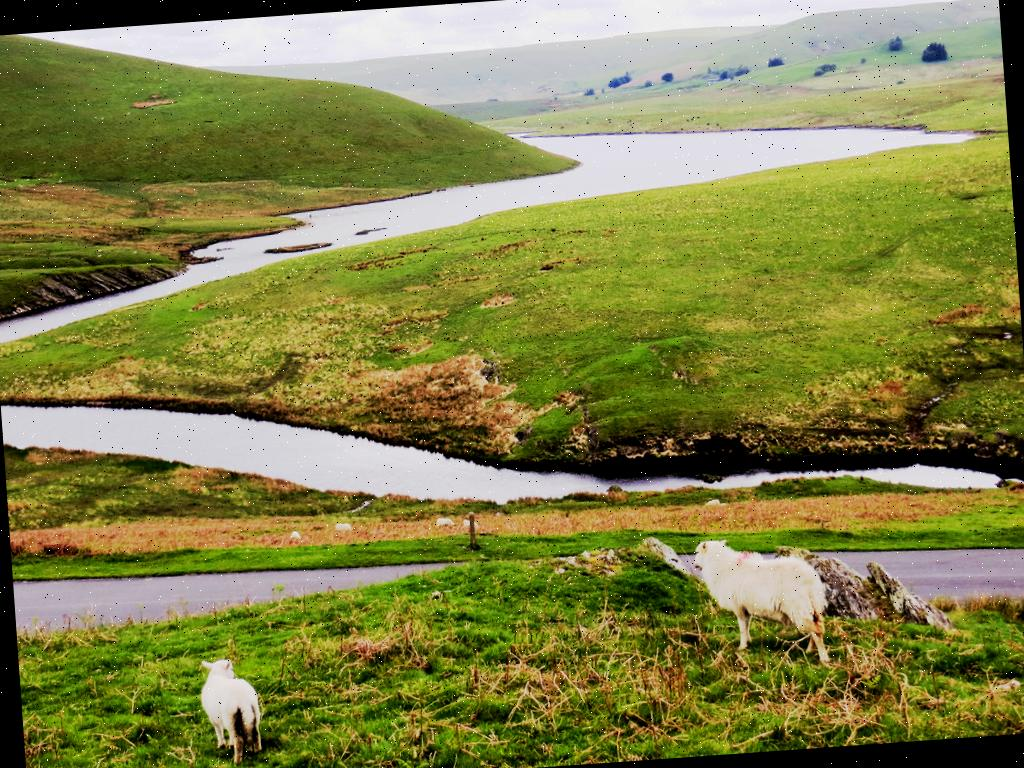Sheep: (676, 530, 840, 660), (195, 656, 264, 768)
